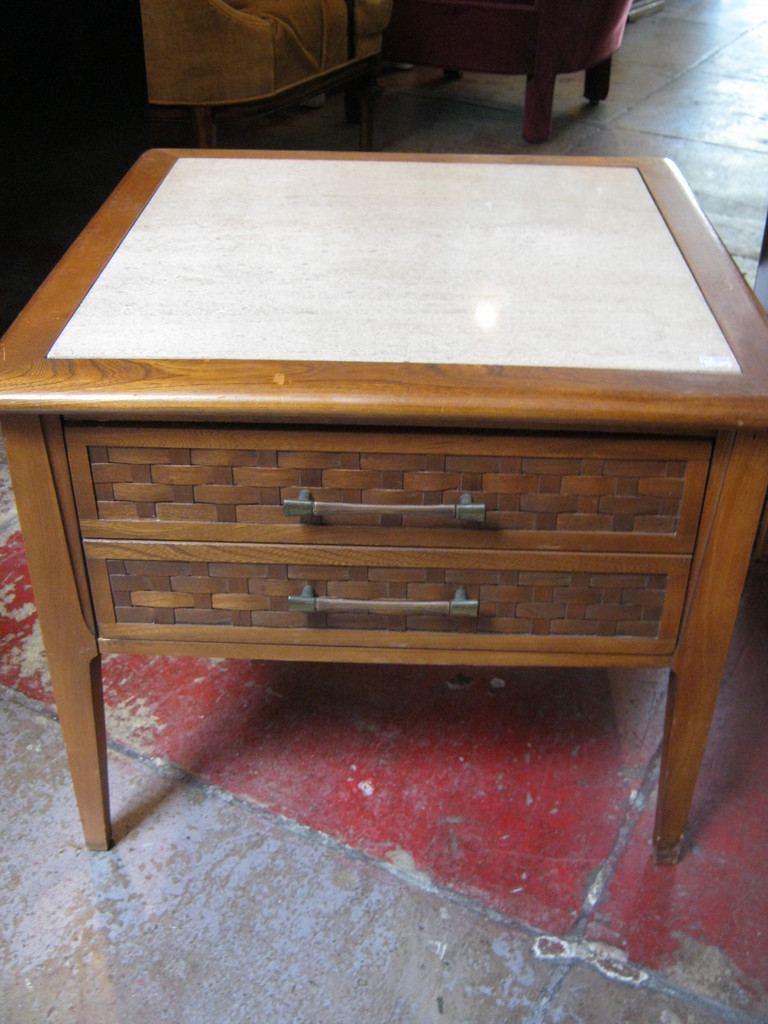cabinet door: (67, 425, 698, 552), (67, 543, 685, 653)
handle: (279, 583, 482, 640), (290, 488, 482, 543)
